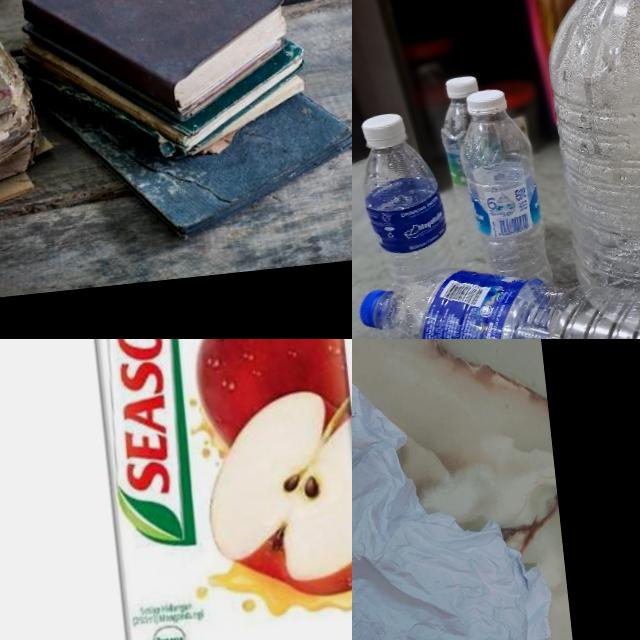caixinha: (66, 339, 352, 640)
garrafa plástica: (537, 0, 640, 338), (373, 240, 640, 339), (456, 107, 554, 296), (358, 139, 458, 301), (438, 96, 497, 246)
papel: (8, 0, 352, 255), (352, 368, 562, 640), (0, 0, 66, 239)
tampa plástica: (360, 112, 407, 148), (358, 288, 390, 332), (465, 88, 507, 114), (444, 75, 478, 98)
